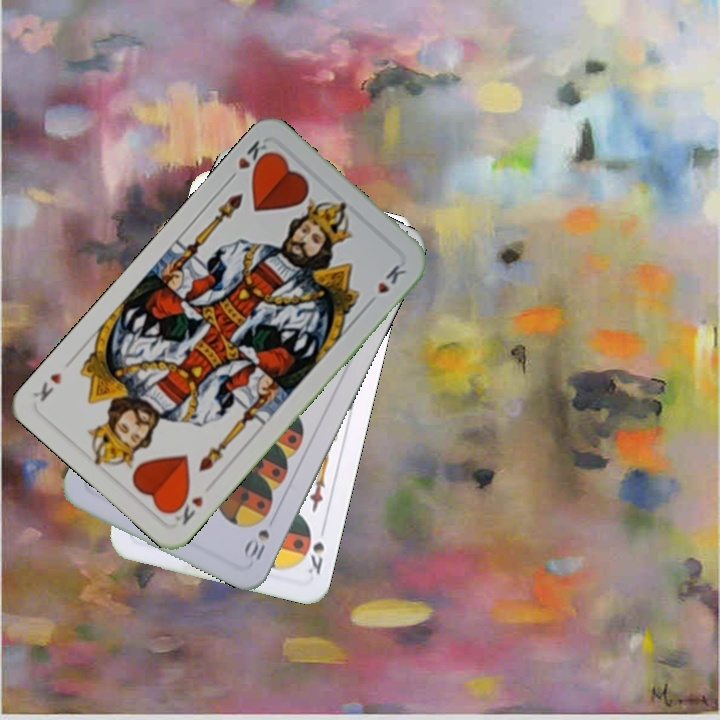HK: (223, 136, 274, 185), (165, 488, 206, 528)
S10: (240, 525, 272, 563)
SK: (303, 537, 327, 577)
